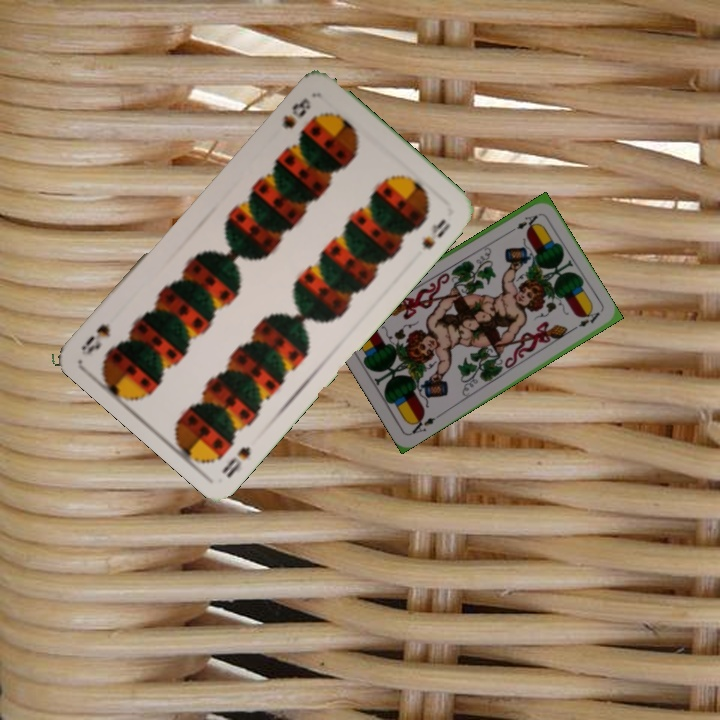EA: (504, 211, 540, 236), (407, 412, 438, 437)
S8: (278, 93, 314, 132), (218, 442, 254, 480)
